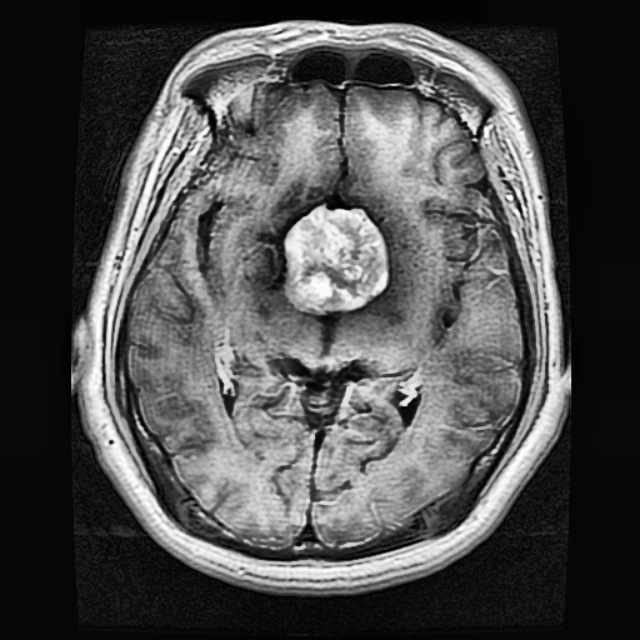Pituitary: (283, 202, 389, 310)
